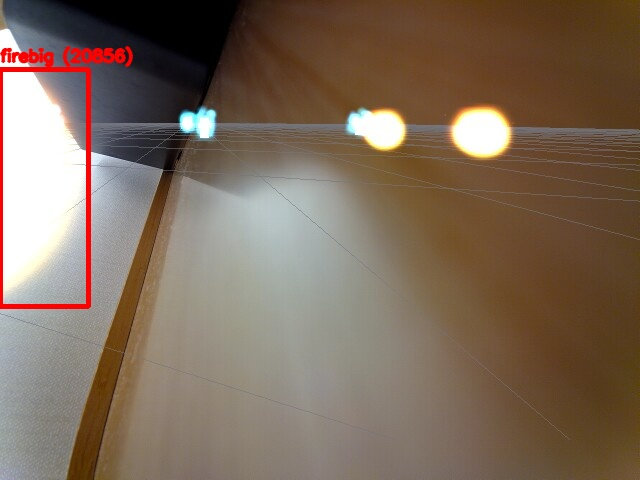firebig: (0, 69, 88, 306)
